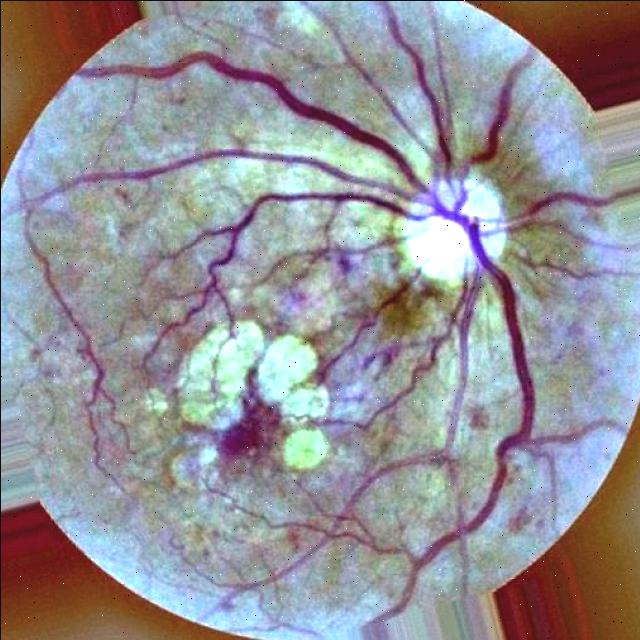Macula: (209, 393, 295, 476)
Nerves: (6, 53, 481, 419), (247, 244, 537, 602), (321, 246, 462, 378)
Optic Disk: (391, 174, 513, 283)
